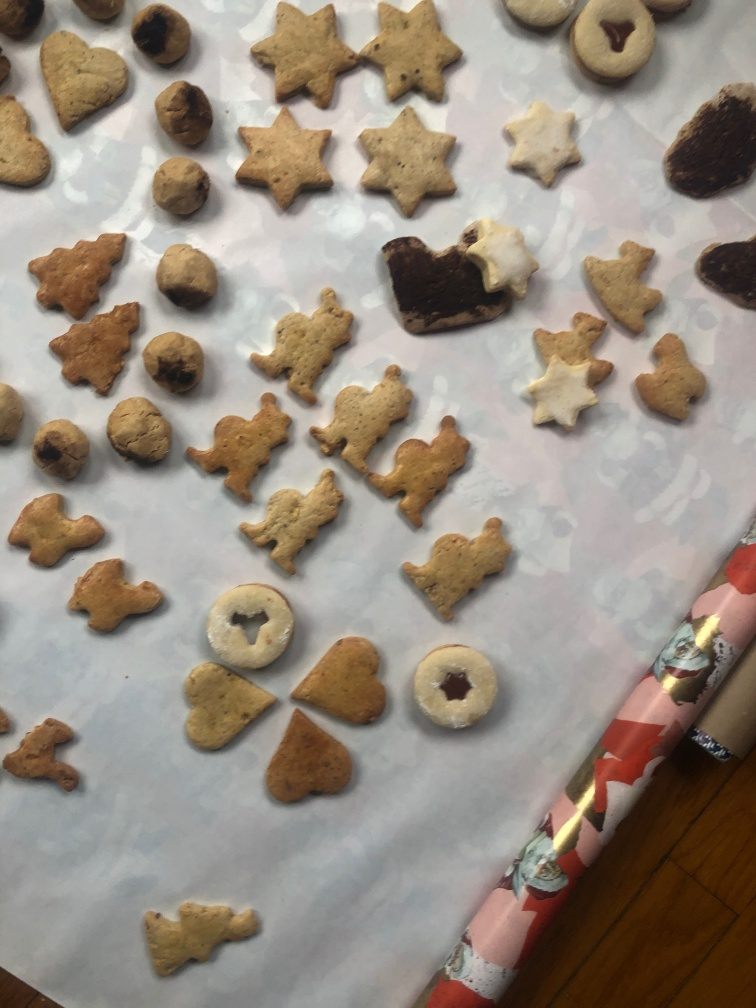christmas shortbread with jam: (201, 579, 298, 672), (412, 645, 503, 732), (570, 1, 661, 85), (492, 1, 580, 35)
heart: (37, 27, 135, 138), (289, 635, 397, 729), (181, 661, 281, 757), (26, 227, 133, 316), (263, 710, 359, 809), (44, 301, 144, 394), (1, 94, 53, 194)
king mage: (135, 894, 263, 978)
lamb: (575, 233, 670, 338), (65, 555, 168, 638), (631, 328, 710, 428), (9, 493, 107, 572), (529, 310, 625, 384)
santa claus: (179, 384, 296, 511), (243, 283, 360, 405), (397, 512, 520, 621), (237, 467, 350, 583), (370, 411, 476, 532), (308, 361, 415, 477)
snowball: (103, 395, 178, 468), (137, 331, 213, 395), (155, 241, 224, 311), (27, 411, 92, 484), (152, 156, 220, 224), (153, 82, 219, 146), (131, 3, 193, 66)
squirrel: (3, 712, 89, 804)
star: (243, 1, 355, 116), (353, 103, 463, 218), (230, 105, 333, 214), (361, 5, 463, 111), (499, 91, 586, 192), (465, 209, 541, 299), (518, 354, 602, 433)
weird #1: (378, 232, 516, 342), (660, 78, 755, 200), (697, 228, 756, 310)
